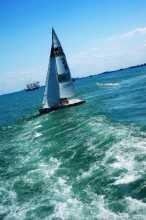fanchuan: (36, 22, 88, 118)
